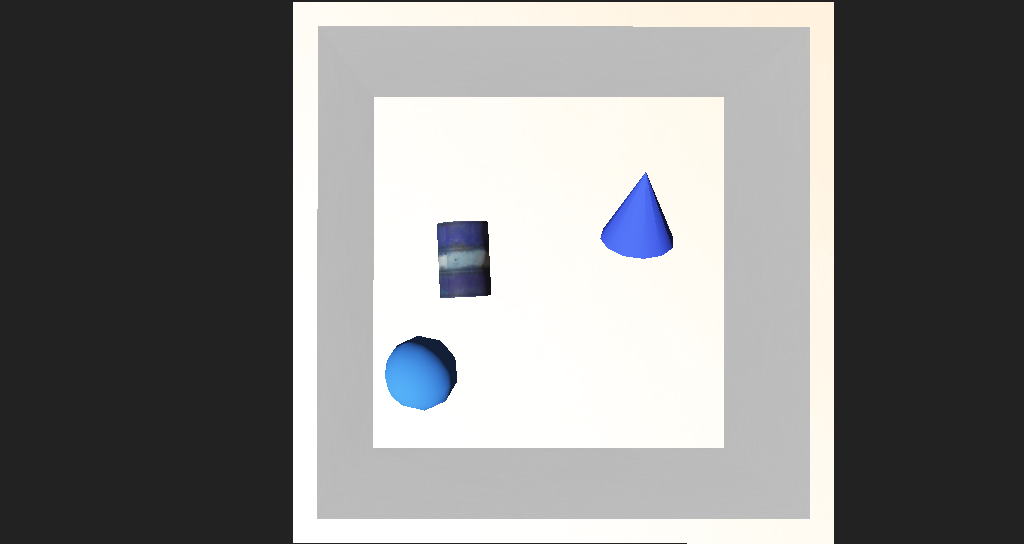cone: (404, 234, 458, 282)
cylinder: (552, 191, 620, 258)
sphere: (367, 308, 428, 351)
